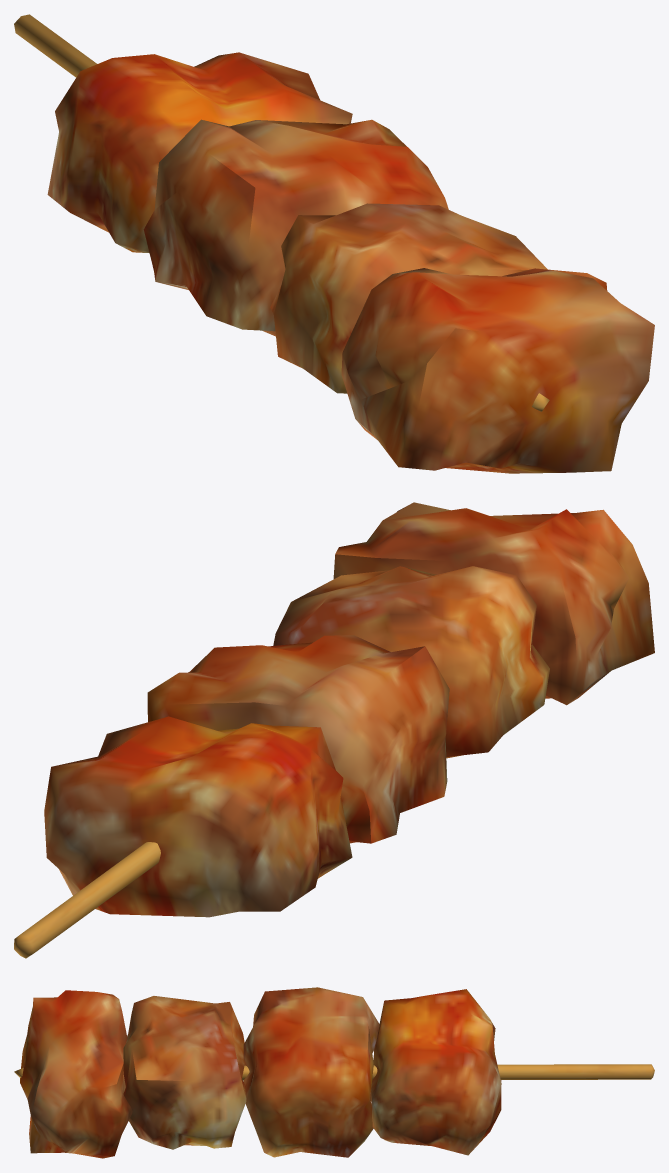
Rendered from BBQSkewers2.obj.
3 views of the same model, one above another, from view 1: azimuth 30°, elevation 25°; view 2: azimuth 150°, elevation 25°; view 3: azimuth 270°, elevation 25° (orthographic). The views are drawn at different scales.
Parts seen in each view (by area): view 1: all_1.001; view 2: all_1.001; view 3: all_1.001.
Boxes of the visible parts, left/top/right/bottom form: all_1.001: left=14, top=14, right=654, bottom=473; all_1.001: left=14, top=502, right=654, bottom=958; all_1.001: left=14, top=987, right=654, bottom=1158.
Size of the model in its own units: 0.7335 by 0.5515 by 2.49.
